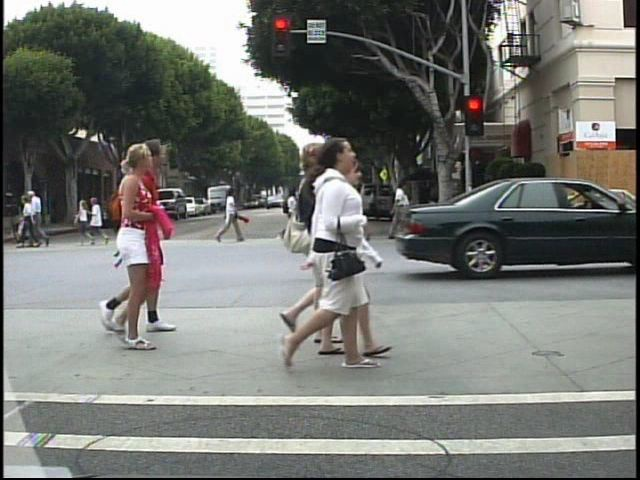person: (86, 146, 177, 354), (298, 136, 373, 376), (318, 159, 395, 371), (259, 146, 328, 355), (135, 140, 189, 336), (388, 177, 419, 240), (218, 184, 243, 249), (32, 186, 53, 251), (280, 185, 303, 243), (19, 196, 42, 251), (363, 187, 379, 223)
